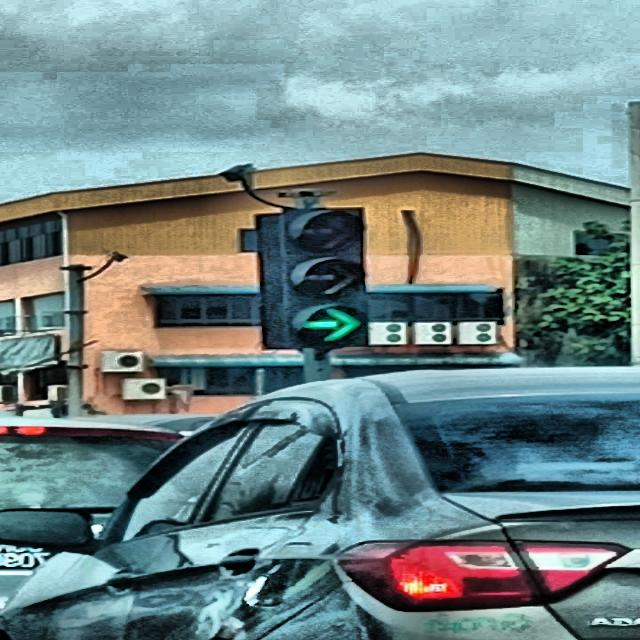green: (286, 205, 369, 349)
